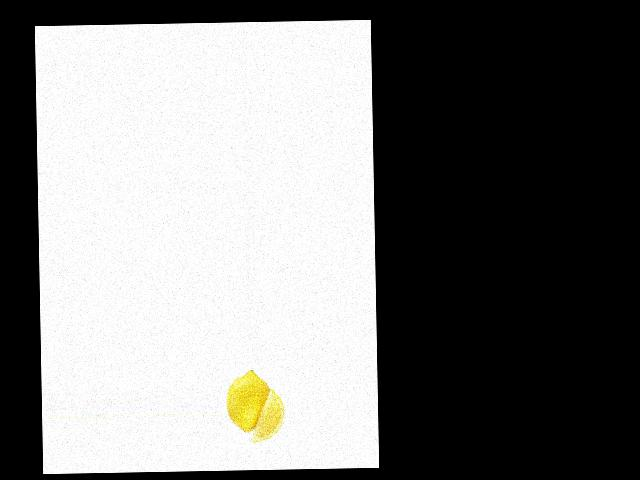lemon: (226, 367, 272, 436)
